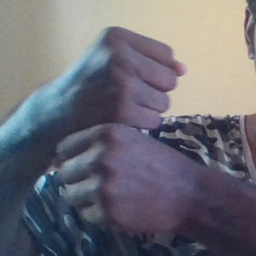G: (55, 22, 189, 235)
